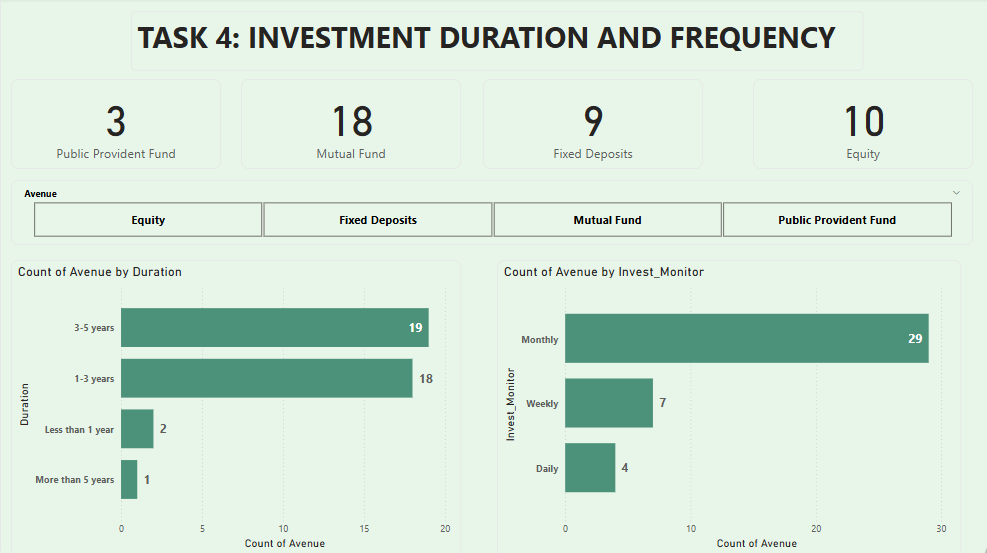

Layout of this report page (visuals, bound fields, positions):
{"tool":"powerbi","page":{"name":"Task4","canvas":[1280,720],"ordinal":3},"visuals":[{"type":"textbox","box":[167.2,17,945.4,76.5],"z":0},{"type":"card","fields":{"Values":["Data_set 2.Public Provident Fund"]},"box":[12.8,104.2,271.1,115.6],"z":1000},{"type":"card","fields":{"Values":["Data_set 2.Equity"]},"box":[970.3,104.2,284,115.6],"z":2000},{"type":"card","fields":{"Values":["Data_set 2.Fixed Deposits"]},"box":[622.2,104.2,284,115.6],"z":3000},{"type":"card","fields":{"Values":["Data_set 2.Mutual Fund"]},"box":[309.7,104.2,284,115.6],"z":4000},{"type":"slicer","fields":{"Values":["Data_set 2.Avenue"]},"box":[12.8,235.5,1241.5,84.2],"z":5000},{"type":"clusteredBarChart","fields":{"Category":["Data_set 2.Duration"],"Y":["CountNonNull(Data_set 2.Avenue)"]},"box":[12.5,337.9,581,382.6],"z":6000},{"type":"clusteredBarChart","fields":{"Y":["CountNonNull(Data_set 2.Avenue)"],"Category":["Data_set 2.Invest_Monitor"]},"box":[640,337.9,598.9,382.6],"z":7000}]}

Visuals, with their boxes in screenshot pixels (x1, y1, x2, y2), scaled from the page's 1280x720 canvas onto the 987x553 screenshot:
textbox: {"x1": 129, "y1": 13, "x2": 858, "y2": 72}
card - Data_set 2.Public Provident Fund: {"x1": 10, "y1": 80, "x2": 219, "y2": 169}
card - Data_set 2.Equity: {"x1": 748, "y1": 80, "x2": 967, "y2": 169}
card - Data_set 2.Fixed Deposits: {"x1": 480, "y1": 80, "x2": 699, "y2": 169}
card - Data_set 2.Mutual Fund: {"x1": 239, "y1": 80, "x2": 458, "y2": 169}
slicer - Data_set 2.Avenue: {"x1": 10, "y1": 181, "x2": 967, "y2": 246}
clusteredBarChart - Data_set 2.Duration x CountNonNull(Data_set 2.Avenue): {"x1": 10, "y1": 260, "x2": 458, "y2": 552}
clusteredBarChart - CountNonNull(Data_set 2.Avenue) x Data_set 2.Invest_Monitor: {"x1": 494, "y1": 260, "x2": 955, "y2": 552}
